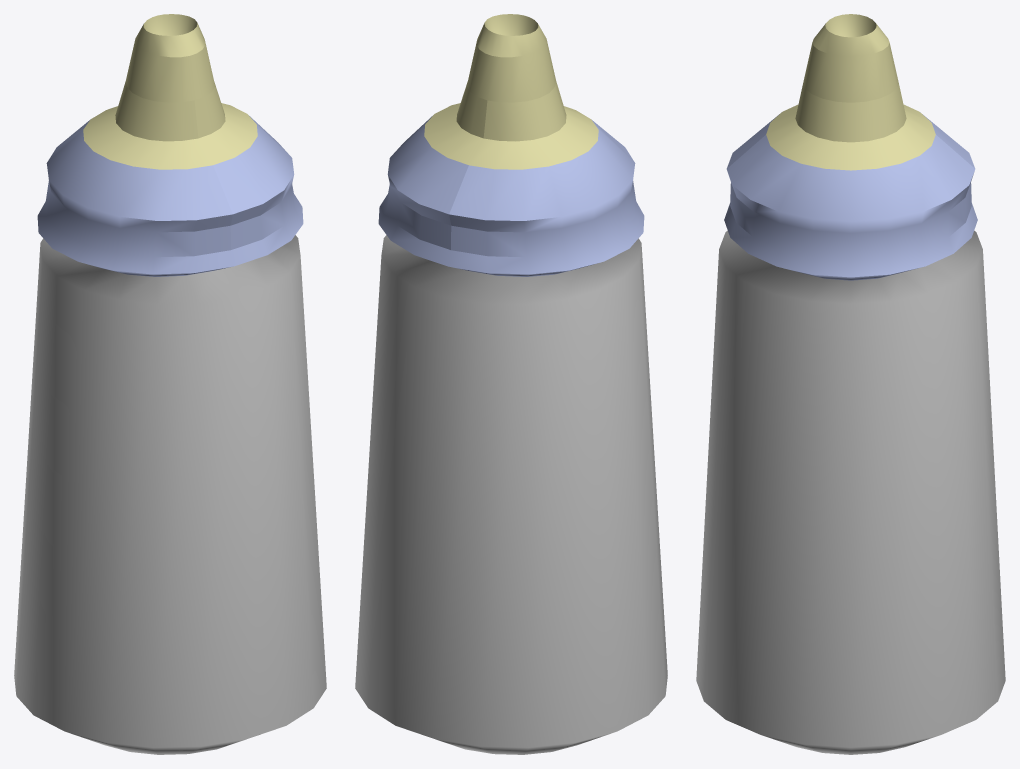
File: baby_bottle.fbx
The picture shows the model from 3 angles, left to right: view 1: azimuth 30°, elevation 25°; view 2: azimuth 150°, elevation 25°; view 3: azimuth 270°, elevation 25°; orthographic projection.
Visible parts, largest first — view 1: BabyBottle; view 2: BabyBottle; view 3: BabyBottle.
Part boxes in pixels (<box>): BabyBottle: <box>14,14,326,754</box>; BabyBottle: <box>355,14,667,754</box>; BabyBottle: <box>696,14,1005,754</box>.
Size of the model in its own units: 0.2394 by 0.577 by 0.2349.
